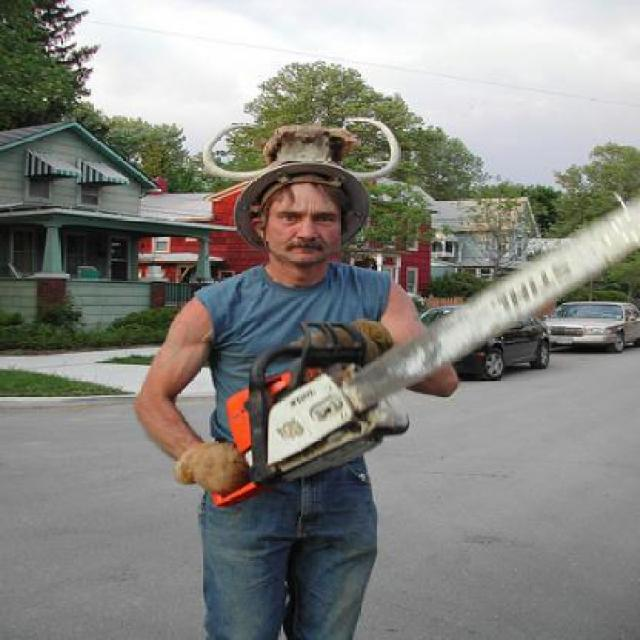Chainsaw: (214, 197, 640, 506)
